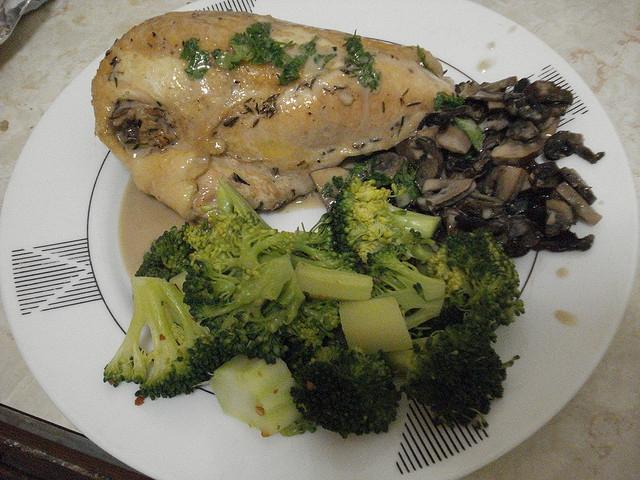broccoli: (103, 277, 237, 400), (384, 321, 521, 428), (182, 252, 307, 364), (426, 227, 524, 343), (291, 340, 403, 440), (322, 176, 442, 252), (210, 354, 304, 437), (184, 200, 286, 274), (366, 243, 446, 330), (339, 296, 413, 354), (294, 260, 374, 302), (290, 254, 344, 270)
mushroom: (393, 134, 444, 194), (506, 186, 556, 234), (554, 181, 602, 225), (416, 178, 476, 212), (544, 131, 605, 164), (416, 124, 472, 153), (558, 166, 598, 205), (490, 140, 546, 166), (532, 230, 596, 252), (522, 80, 574, 104), (494, 166, 528, 201), (527, 160, 565, 188), (371, 152, 409, 180), (459, 80, 506, 102), (458, 189, 507, 210), (506, 214, 540, 240), (454, 150, 492, 172), (443, 103, 487, 122), (506, 118, 540, 142), (542, 208, 570, 236), (480, 128, 507, 153), (482, 76, 518, 93), (502, 92, 526, 116), (454, 216, 484, 233), (514, 78, 530, 93), (522, 159, 539, 170), (516, 112, 520, 117)
